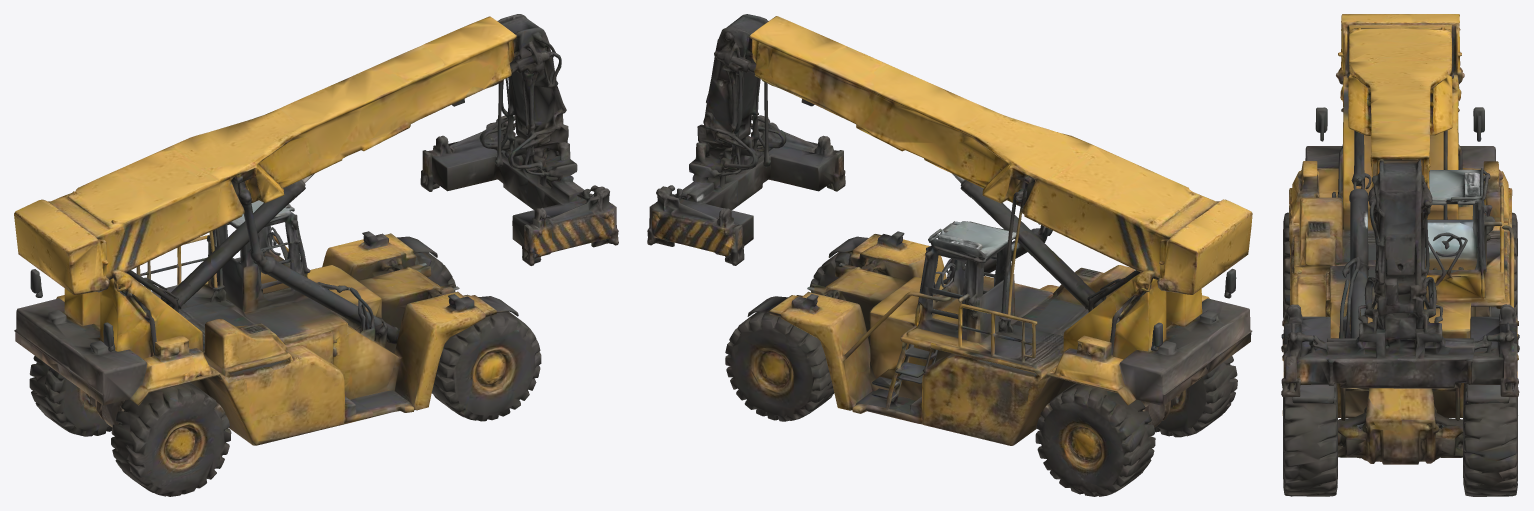
Rendered from reach_stacker.glb.
3 views of the same model, side by side, from view 1: azimuth 30°, elevation 25°; view 2: azimuth 150°, elevation 25°; view 3: azimuth 270°, elevation 25° (orthographic). The views are drawn at different scales.
Visible parts, largest first — view 1: tripo_node_578a042d-1c11-4041-a9f2-d194c406760c; view 2: tripo_node_578a042d-1c11-4041-a9f2-d194c406760c; view 3: tripo_node_578a042d-1c11-4041-a9f2-d194c406760c.
Boxes of the visible parts, x1=… form: tripo_node_578a042d-1c11-4041-a9f2-d194c406760c: x1=14, y1=14, x2=618, y2=496; tripo_node_578a042d-1c11-4041-a9f2-d194c406760c: x1=647, y1=14, x2=1252, y2=496; tripo_node_578a042d-1c11-4041-a9f2-d194c406760c: x1=1281, y1=14, x2=1519, y2=496.
Bounding box in the file's own units: 0.9996 × 0.6224 × 0.3657.
1 material, 1 textured.
